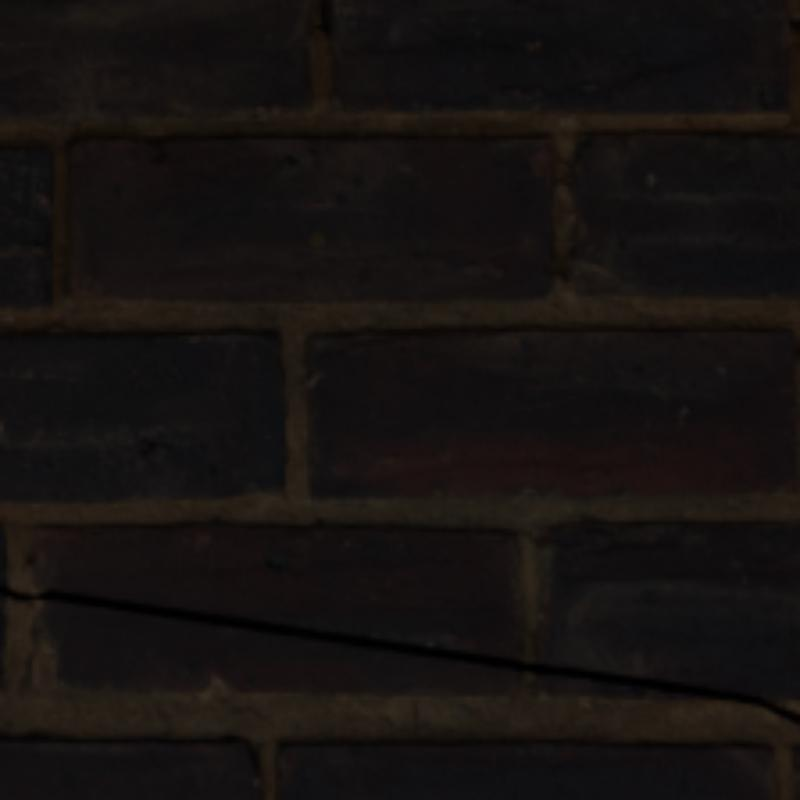pothole: (0, 586, 796, 721)
